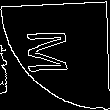M_E: (29, 31, 81, 79)
